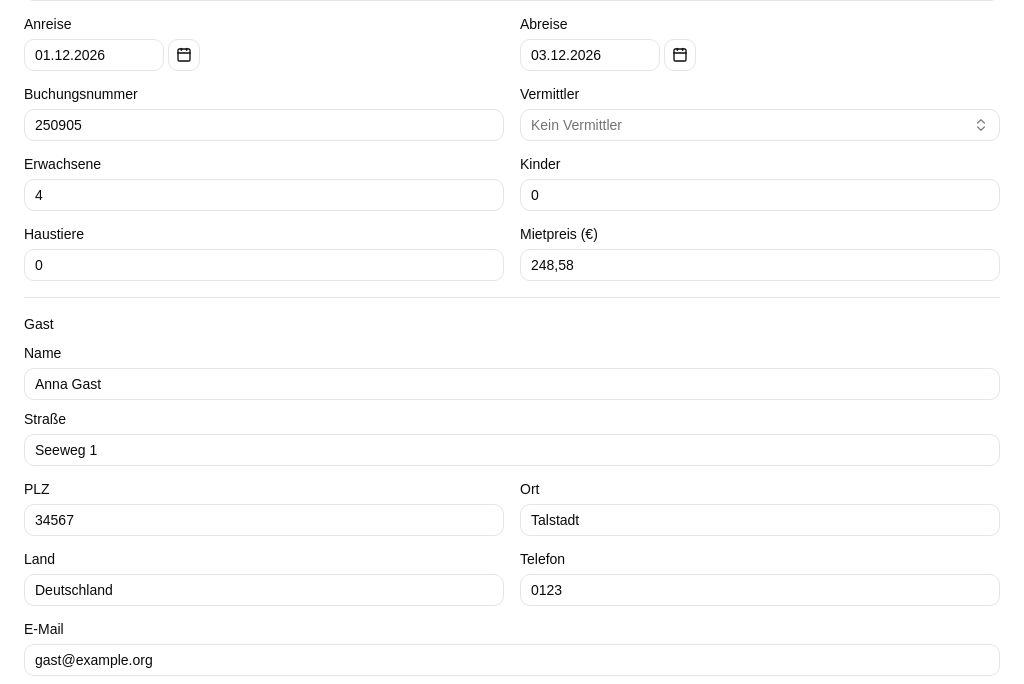
Test: Review mode › does not move while typing and asks before dropping unsaved edits
The width and height of the screenshot is (1024, 684).
(page scrolled)
Replace the text in the field labelled "Name" with "Anna Neu" at [512, 384], box left=24, top=368, right=1000, bottom=400
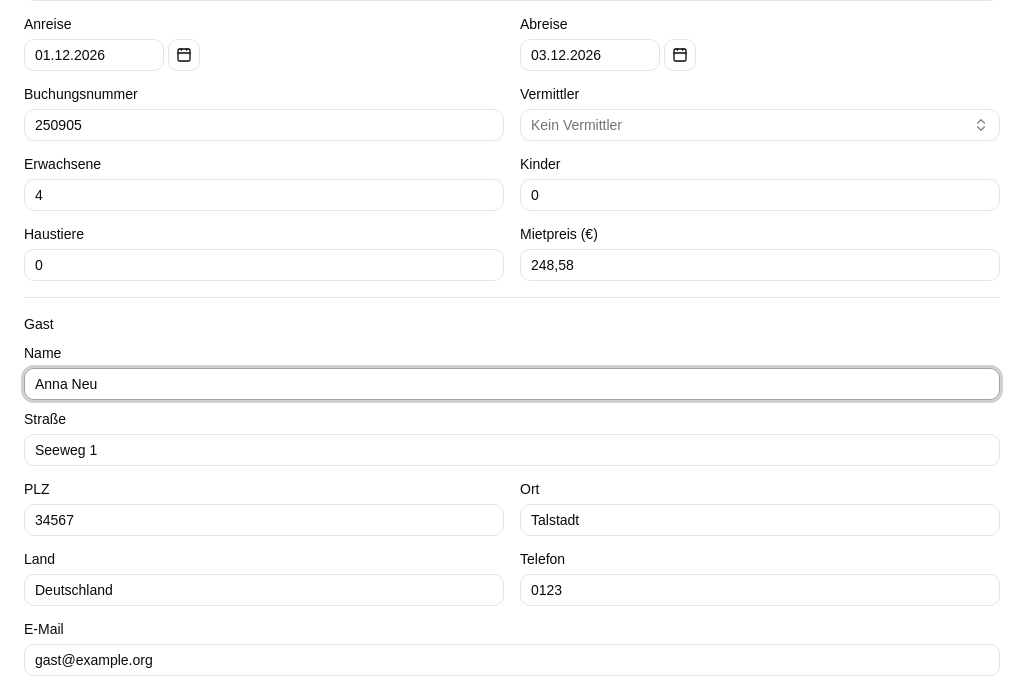
Press Arrowright
(page scrolled)
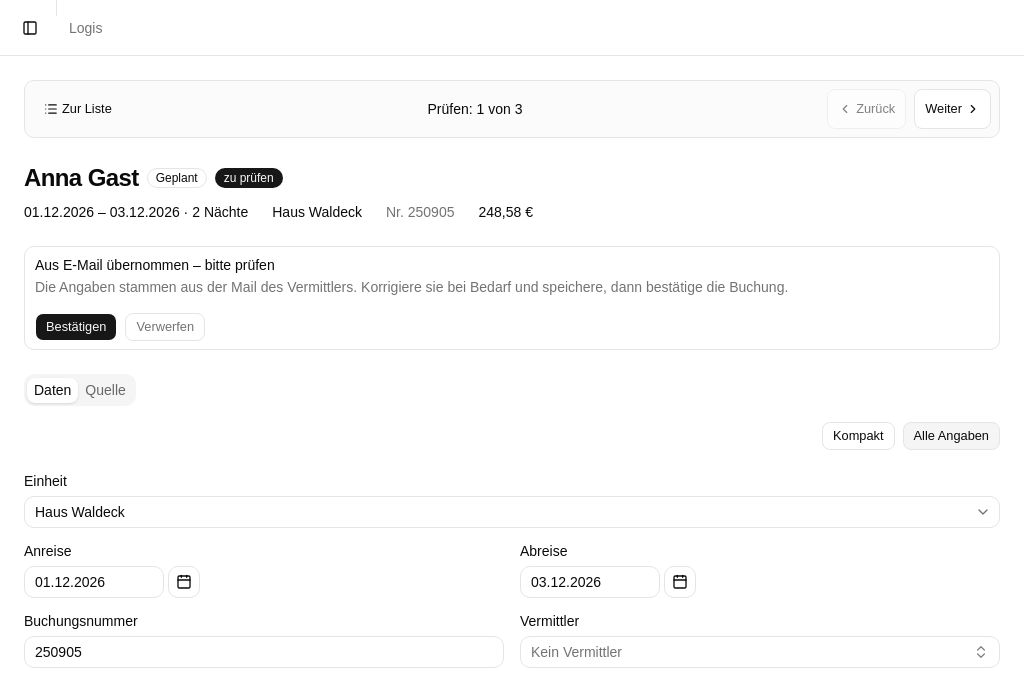
expect the heading "Anna Gast" is shown: met, box left=24, top=162, right=139, bottom=194
Click the button "Weiter" at [953, 109], box left=914, top=89, right=991, bottom=129
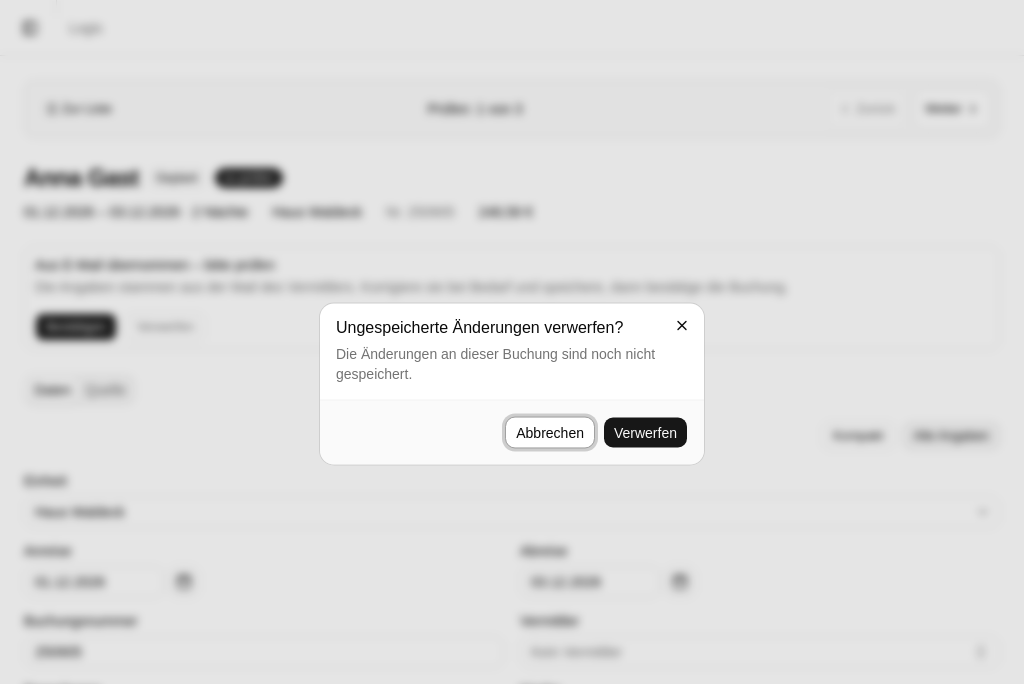
Click the button "Abbrechen" at [550, 432], box left=505, top=416, right=595, bottom=448
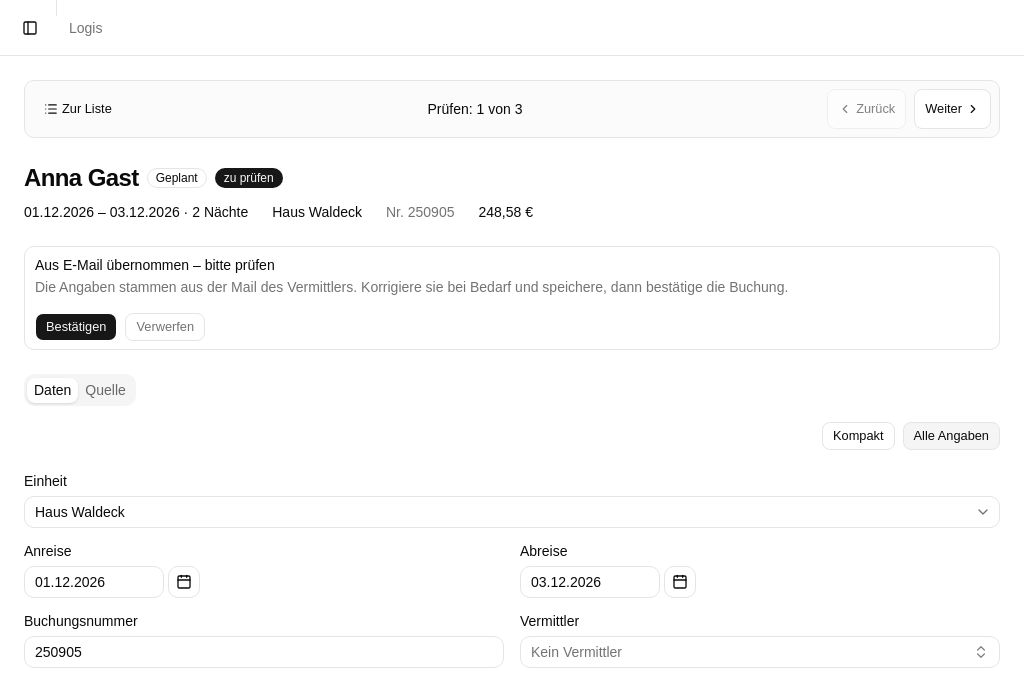
Click the button "Weiter" at [953, 109], box left=914, top=89, right=991, bottom=129
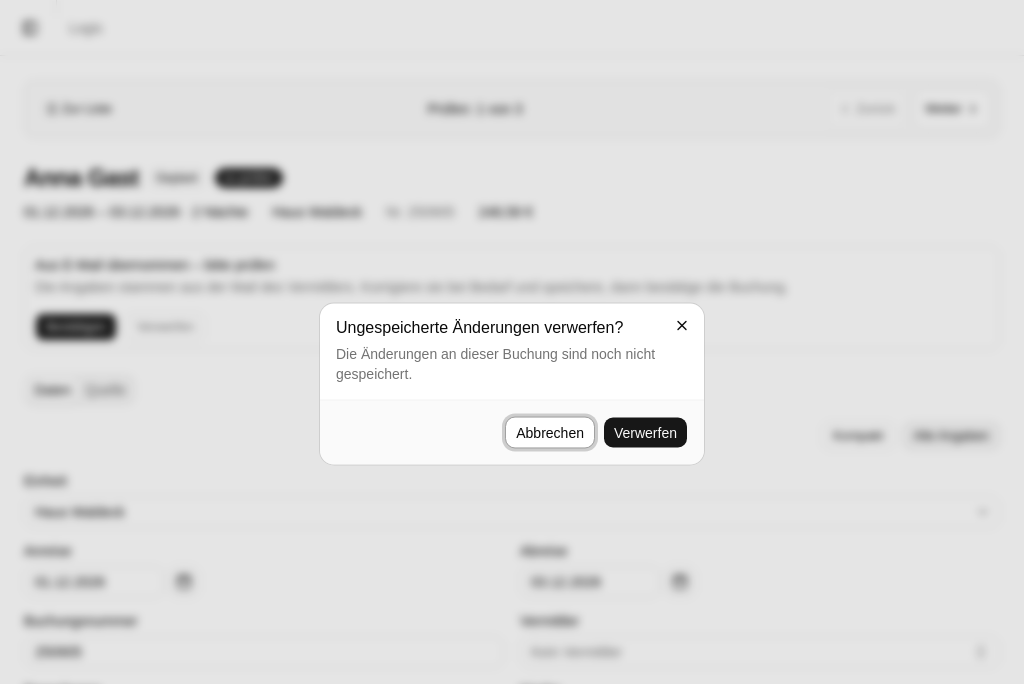
Click the button "Verwerfen" at [646, 432], box left=603, top=416, right=688, bottom=448
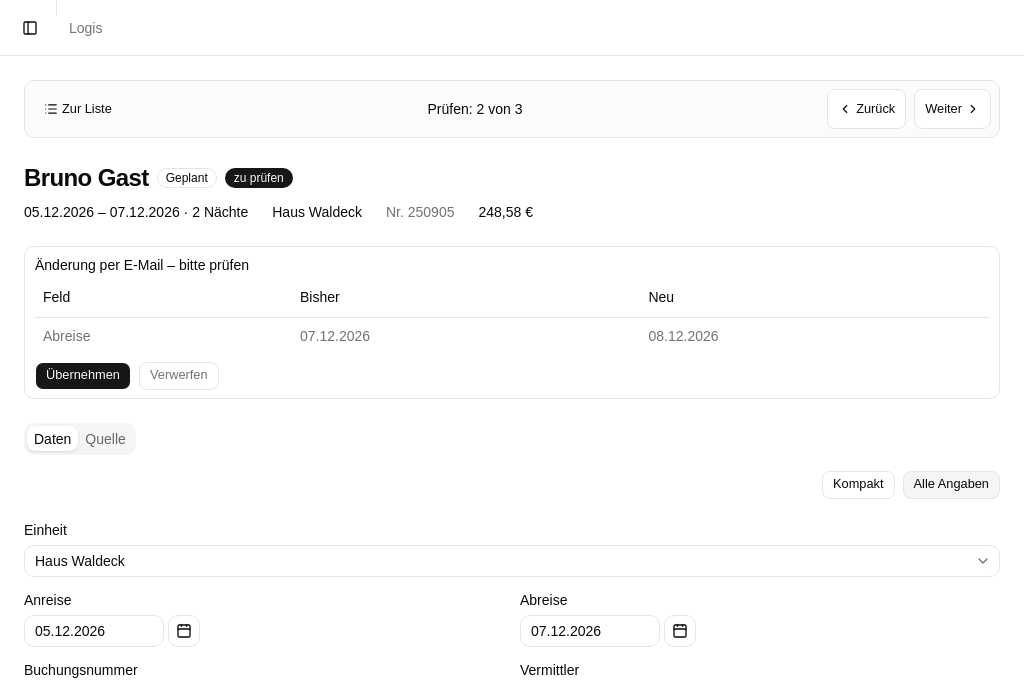
expect the heading "Bruno Gast" is shown: met, box left=24, top=162, right=149, bottom=194
